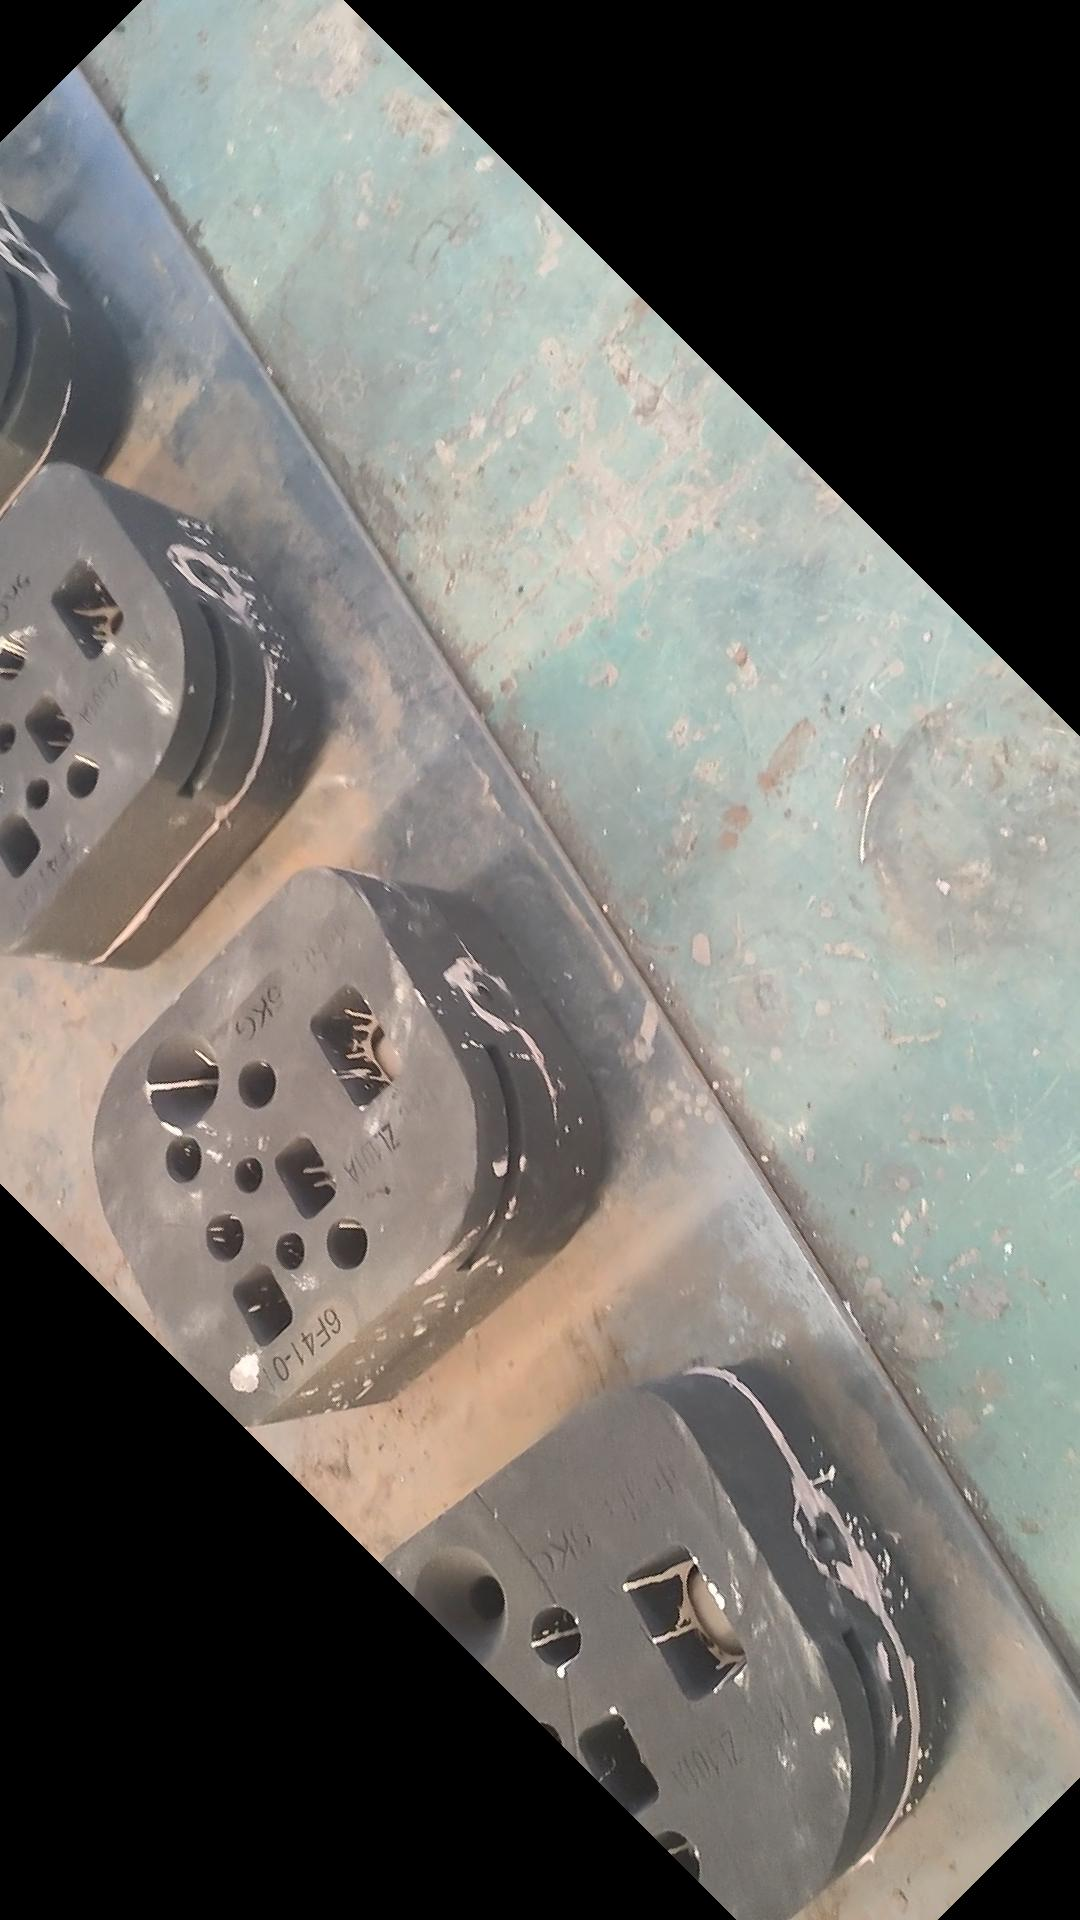pouring hole: (411, 1549, 508, 1663), (146, 1029, 220, 1127)
